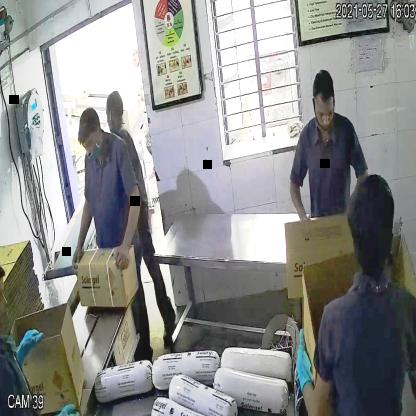no_goggles: (309, 102, 338, 124)
